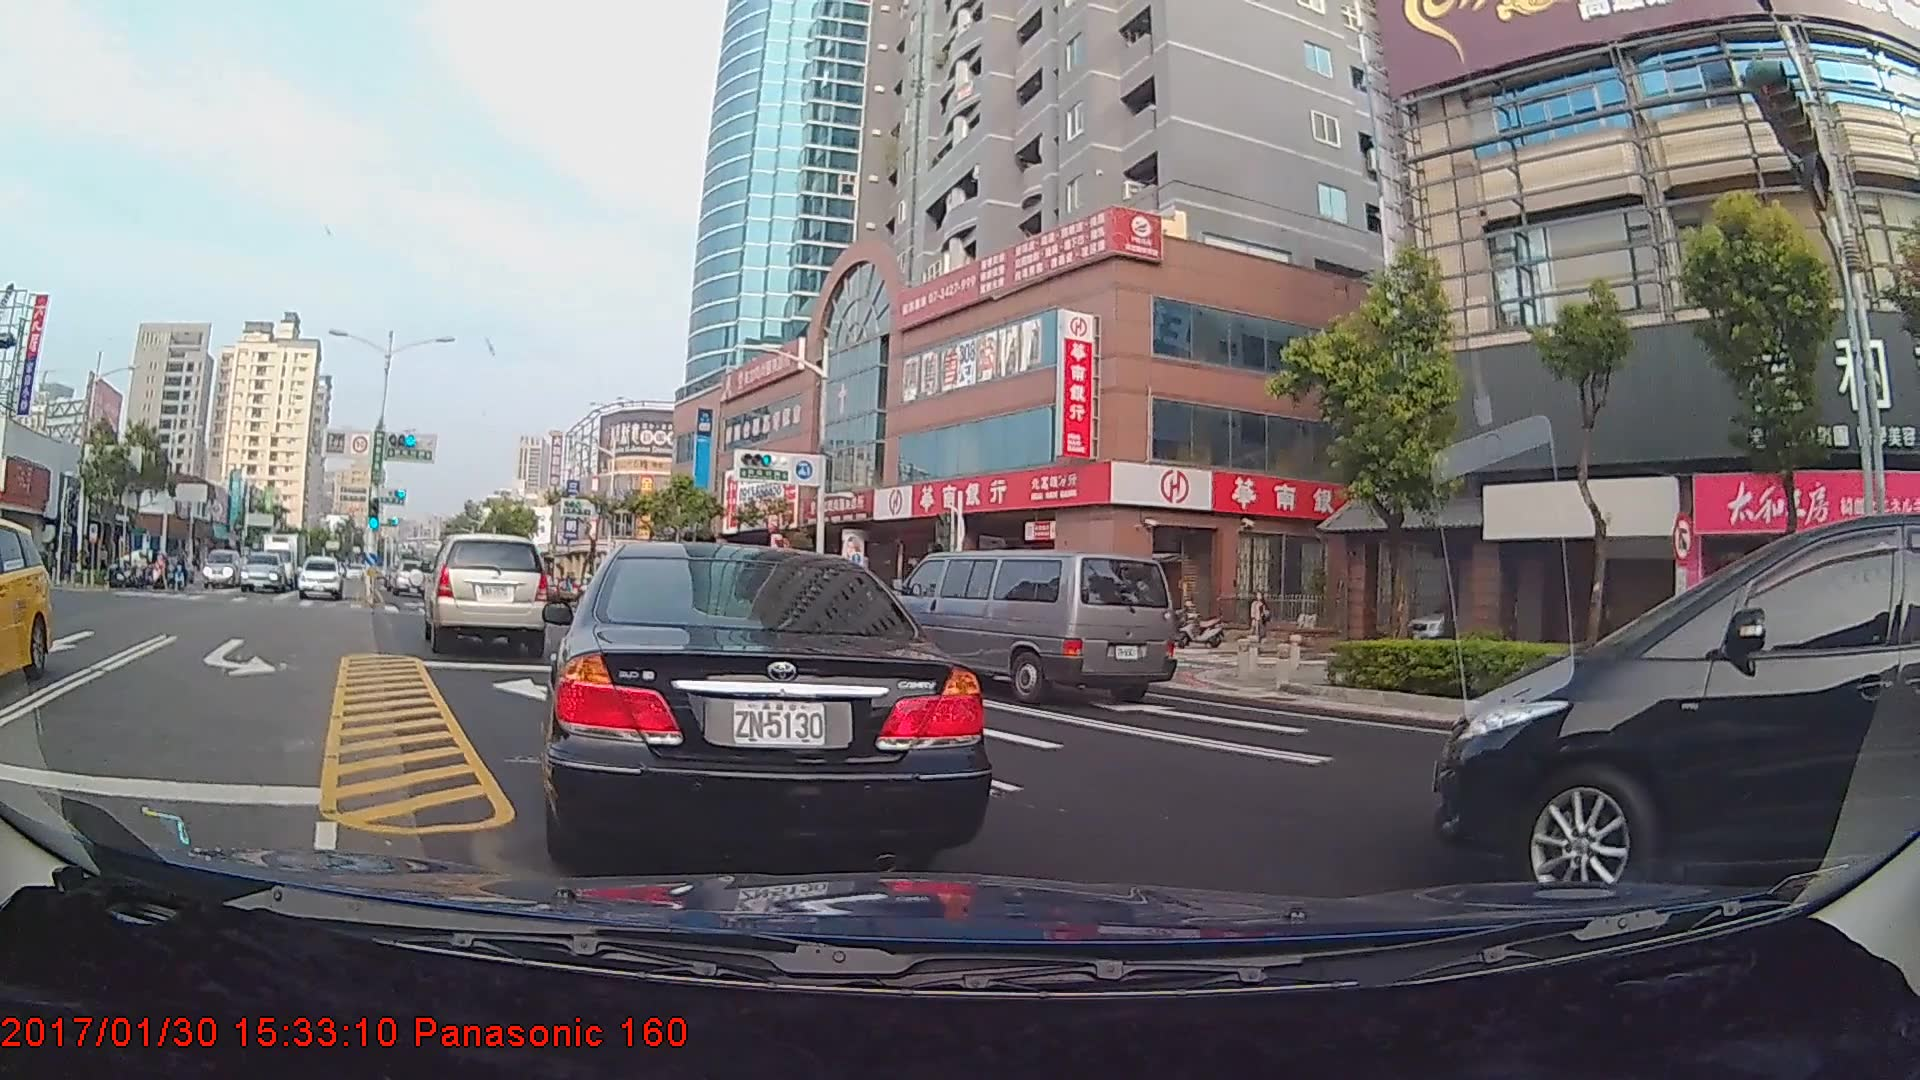pedestrian: (1247, 593, 1273, 654)
vehicle: (1409, 475, 1903, 899), (546, 537, 984, 866), (888, 550, 1172, 708), (420, 532, 556, 654), (0, 511, 52, 683), (256, 529, 308, 588), (297, 554, 345, 600), (241, 551, 288, 594), (202, 548, 242, 589), (386, 556, 426, 596)
